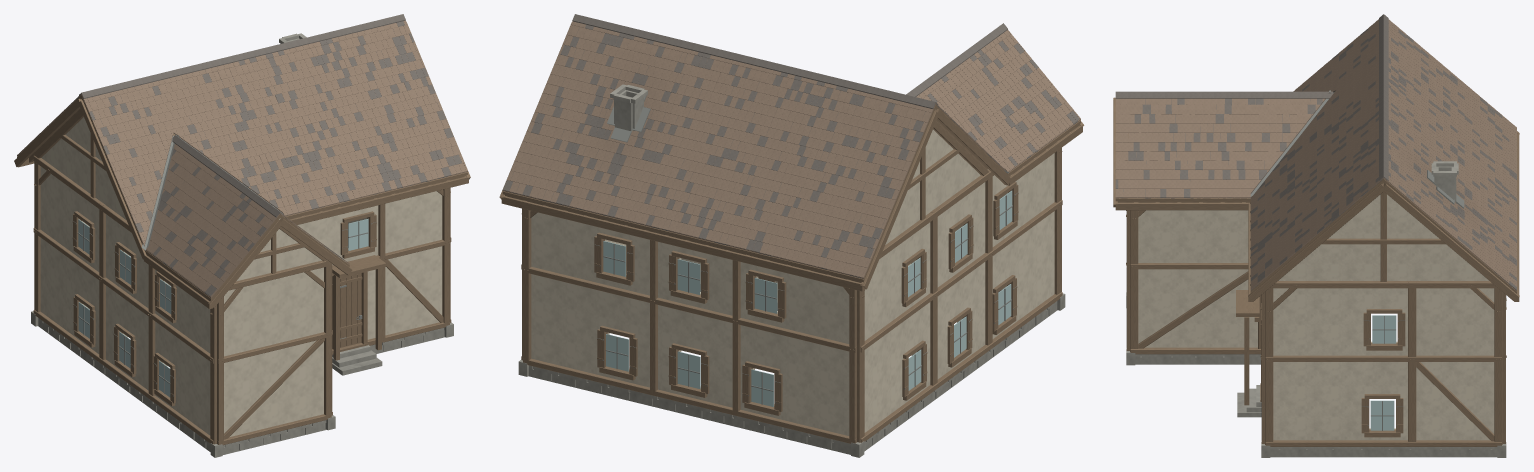
File: expanded_installed_farmhouse.glb
3 renders of one model, left to right at view 1: azimuth 30°, elevation 25°; view 2: azimuth 150°, elevation 25°; view 3: azimuth 270°, elevation 25°, orthographic. The views are drawn at different scales.
Visible parts, largest first — view 1: facade_walls, Split oak shingle courses, facade_timber, Seasoned shingle cohorts, Exposed shingle butts, Roof edge fascia, Overlapping ridge caps, facade_stone, facade_windows, facade_shutters, Continuous roof deck, facade_doors (+6 smaller); view 2: Split oak shingle courses, facade_walls, facade_timber, Seasoned shingle cohorts, Exposed shingle butts, facade_windows, Roof edge fascia, facade_shutters, facade_stone, Overlapping ridge caps, Continuous roof deck, facade_iron (+2 smaller); view 3: facade_walls, Split oak shingle courses, facade_timber, Seasoned shingle cohorts, Exposed shingle butts, Roof edge fascia, Overlapping ridge caps, facade_stone, Continuous roof deck, facade_windows, facade_shutters, facade_foundation_core (+5 smaller).
Boxes of the visible parts, x1,y1,x2,y2 form: facade_walls: [40, 117, 442, 436]; Split oak shingle courses: [17, 20, 467, 297]; facade_timber: [33, 110, 451, 445]; Seasoned shingle cohorts: [68, 21, 467, 296]; Exposed shingle butts: [17, 26, 466, 287]; Roof edge fascia: [14, 22, 470, 309]; Overlapping ridge caps: [79, 14, 405, 217]; facade_stone: [38, 318, 444, 454]; facade_windows: [78, 218, 368, 397]; facade_shutters: [72, 214, 376, 403]; Continuous roof deck: [17, 95, 467, 300]; facade_doors: [340, 273, 362, 347]; Split oak shingle courses: [503, 21, 1080, 278]; facade_walls: [531, 129, 1054, 435]; facade_timber: [521, 121, 1062, 443]; Seasoned shingle cohorts: [502, 24, 1079, 278]; Exposed shingle butts: [509, 26, 1066, 277]; facade_windows: [603, 190, 1012, 406]; Roof edge fascia: [499, 22, 1084, 291]; facade_shutters: [594, 184, 1018, 411]; facade_stone: [529, 301, 1057, 454]; Overlapping ridge caps: [572, 14, 1007, 108]; Continuous roof deck: [502, 105, 1080, 282]; facade_iron: [594, 192, 1018, 404]; facade_walls: [1138, 194, 1494, 440]; Split oak shingle courses: [1115, 19, 1516, 290]; facade_timber: [1126, 183, 1505, 446]; Seasoned shingle cohorts: [1115, 28, 1516, 290]; Exposed shingle butts: [1115, 29, 1516, 288]; Roof edge fascia: [1113, 97, 1519, 301]; Overlapping ridge caps: [1115, 14, 1388, 180]; facade_stone: [1135, 354, 1497, 456]; Continuous roof deck: [1115, 133, 1516, 293]; facade_windows: [1370, 315, 1396, 430]; facade_shutters: [1361, 312, 1405, 433]; facade_foundation_core: [1135, 354, 1496, 457].
Bounding box in the file's own units: 11.56 × 9.4 × 12.04.
Materials: 12 (10 with a texture image).
